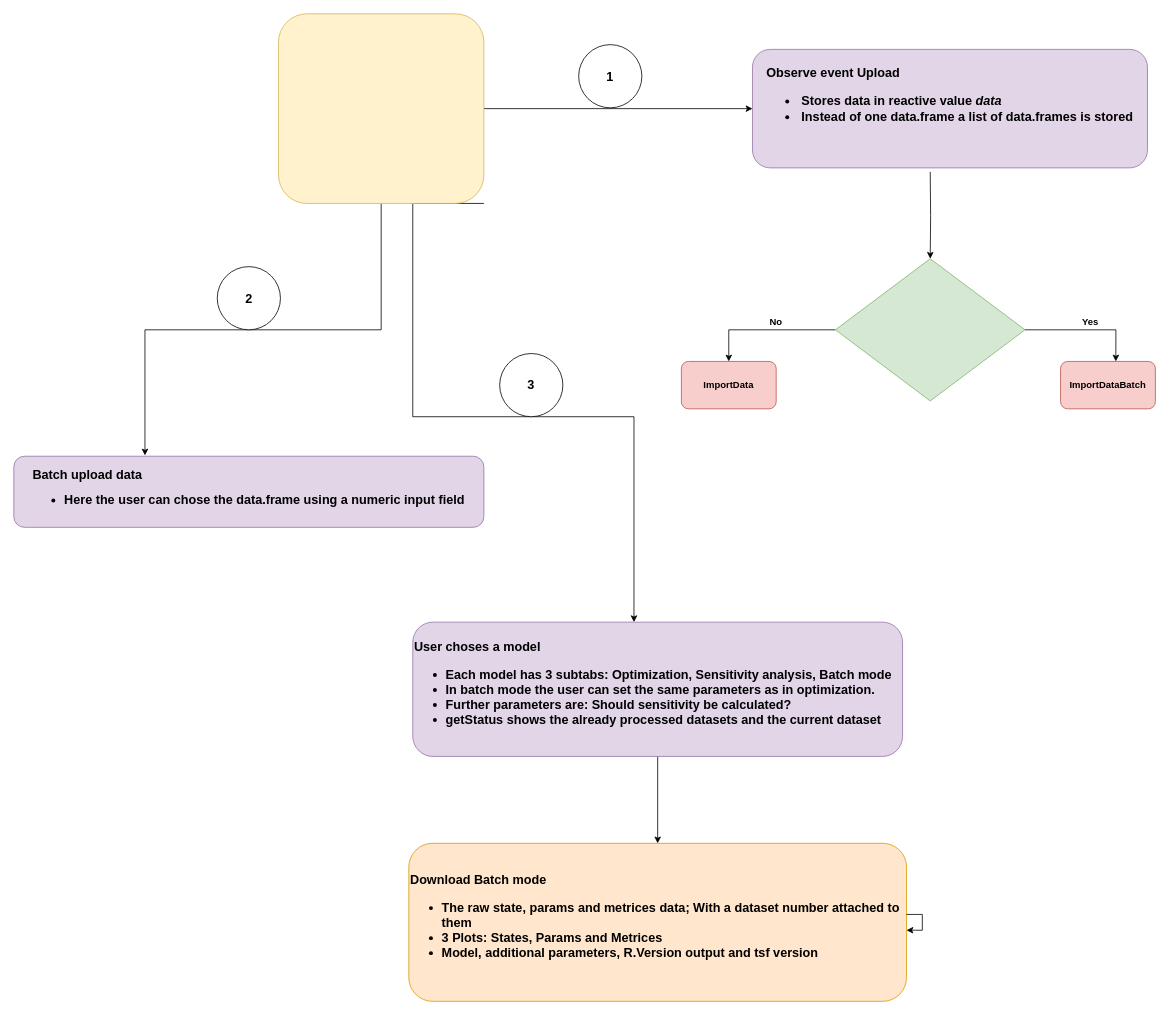
The diagram is 1169 pixels wide and 1015 high, and some of its shapes have lost their labels. The centre of each missing label's shape, as x and y in pixels:
"DataTab" belongs at (x=381, y=108).
"Multiple files" belongs at (x=930, y=329).
